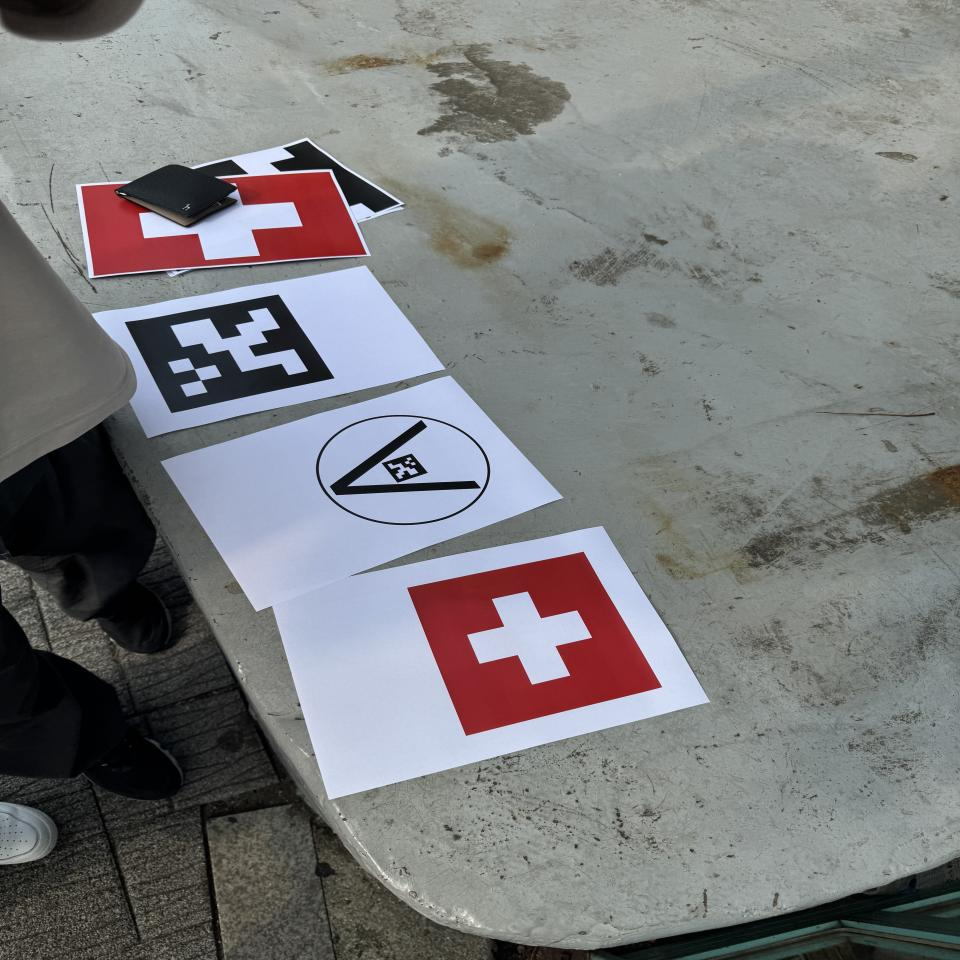ArUro mark: (126, 295, 333, 413)
rescue point: (409, 553, 661, 737)
vertiport: (314, 412, 492, 527)
